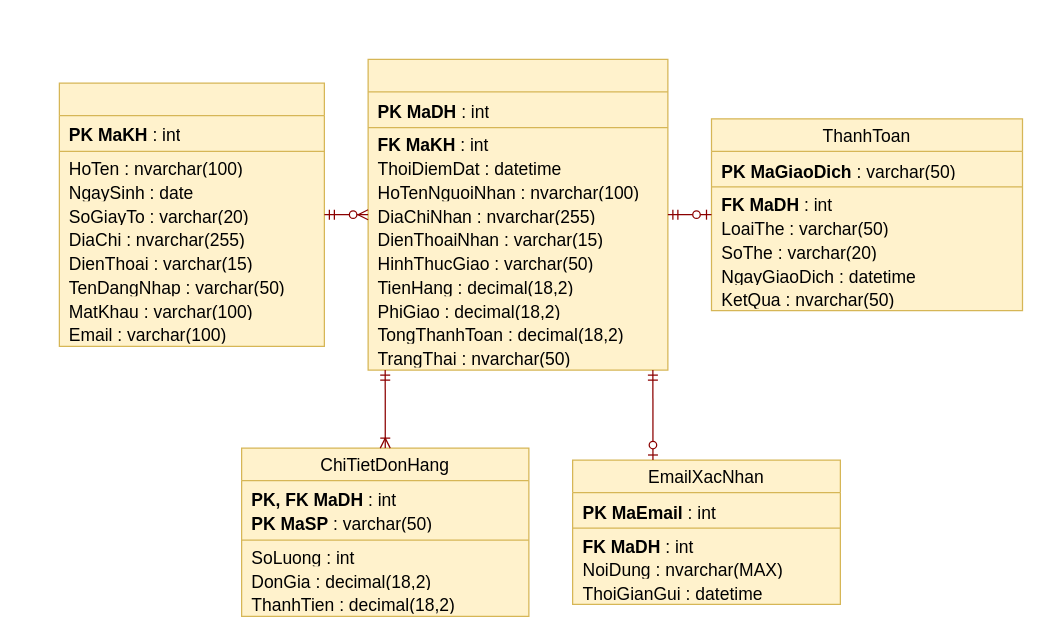
The diagram is 1044 pixels wide and 638 high, and some of its shapes have lost their labels. Here are the shapes that lost their labels. From the top down, the box of each, then its label:
(58, 82, 324, 346): KhachHang
(367, 58, 668, 370): DonHang
